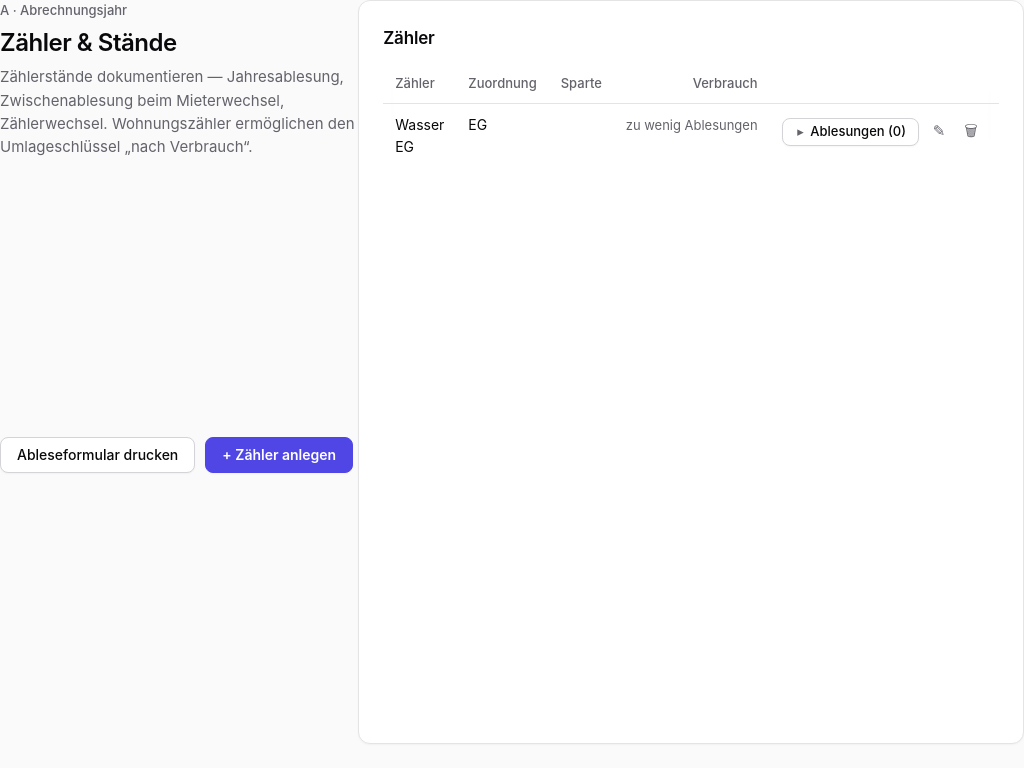
Test case: leerer Zählerstand: Meldung statt einer gespeicherten 0
The width and height of the screenshot is (1024, 768).
Click the button "Ablesungen (0)" at (850, 132), box x1=782 y1=118 x2=919 y2=146
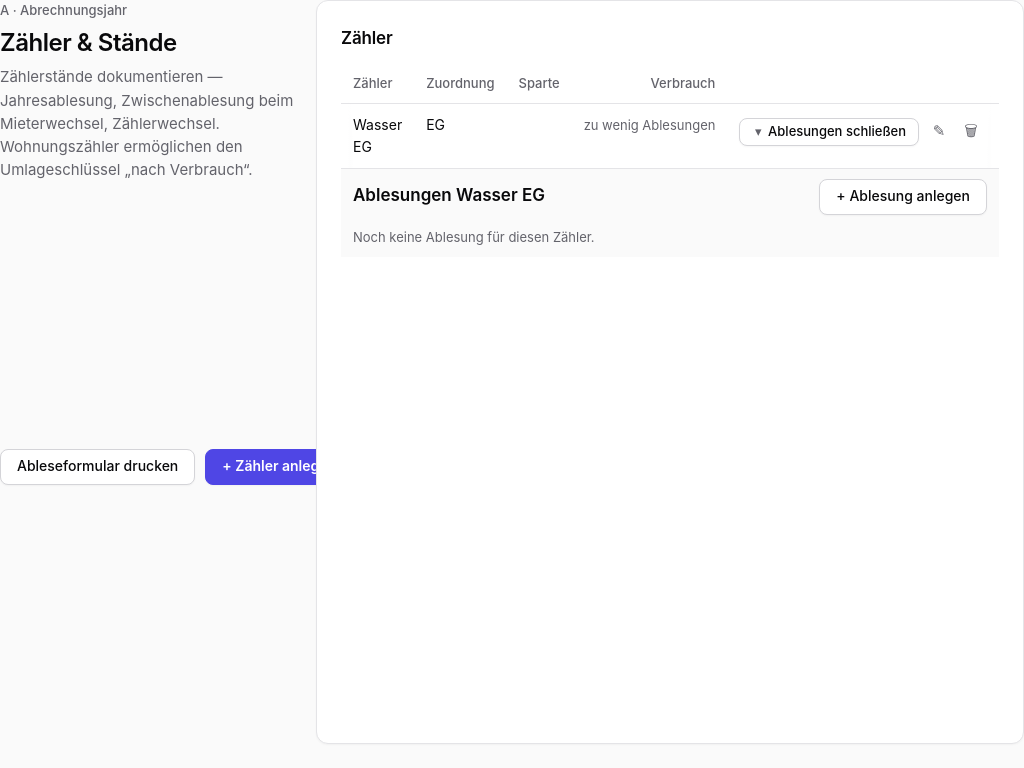
Click the button "+ Ablesung anlegen" at (903, 197), box x1=819 y1=179 x2=987 y2=215
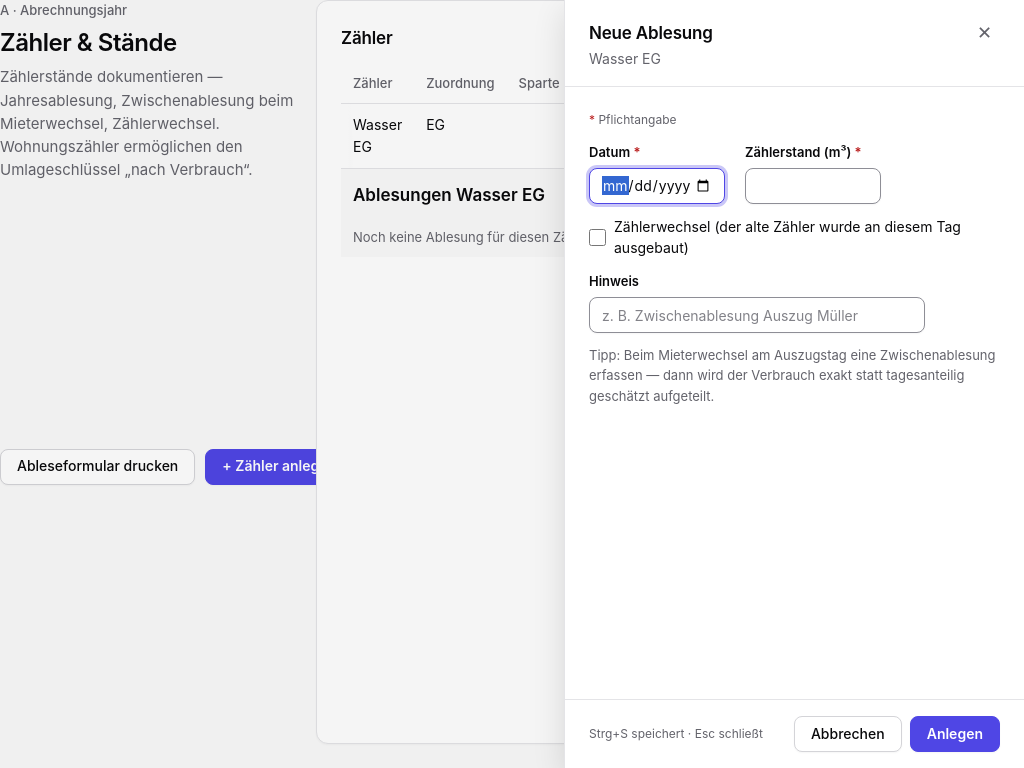
Type "2025-06-30" into the date field labelled "Datum *" at (657, 186), box x1=589 y1=168 x2=725 y2=204
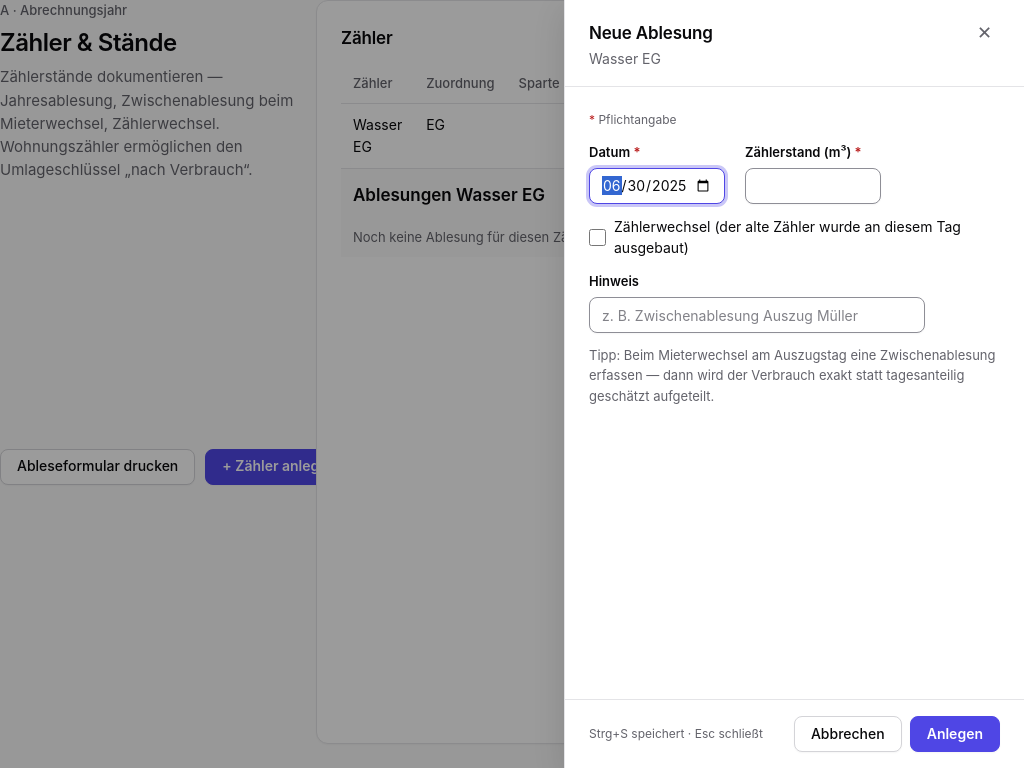
Click the button "Anlegen" at (955, 734), box x1=910 y1=716 x2=1000 y2=752
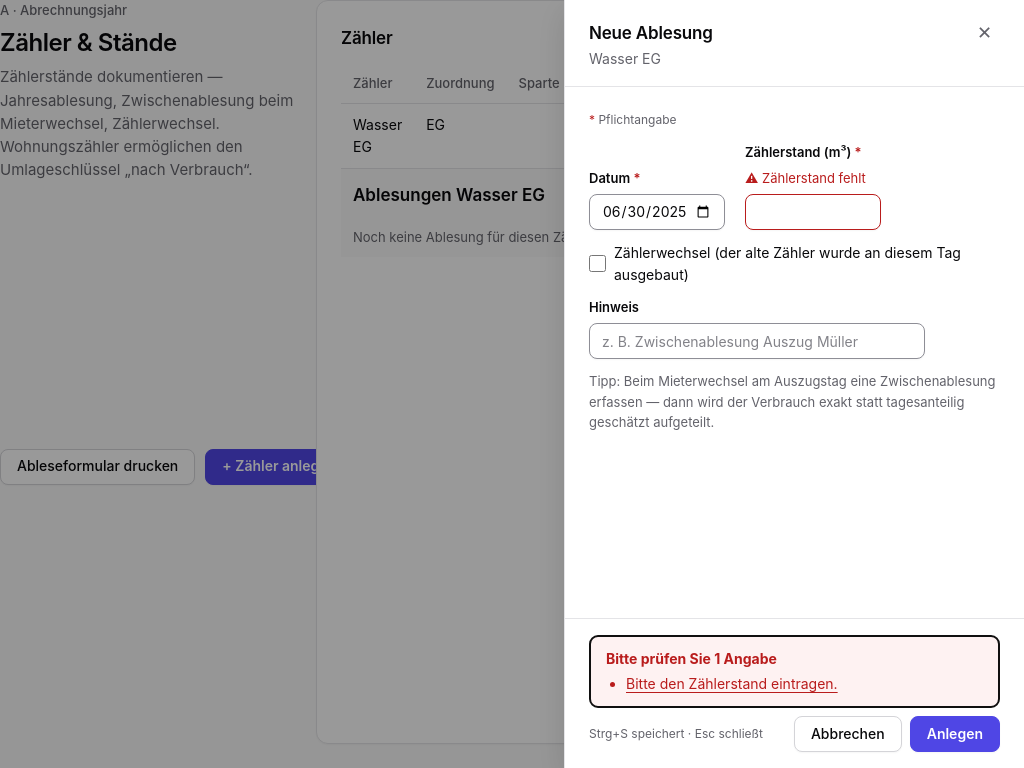
Expected: the link "Bitte den Zählerstand eintragen." is shown, x1=626 y1=675 x2=838 y2=692
